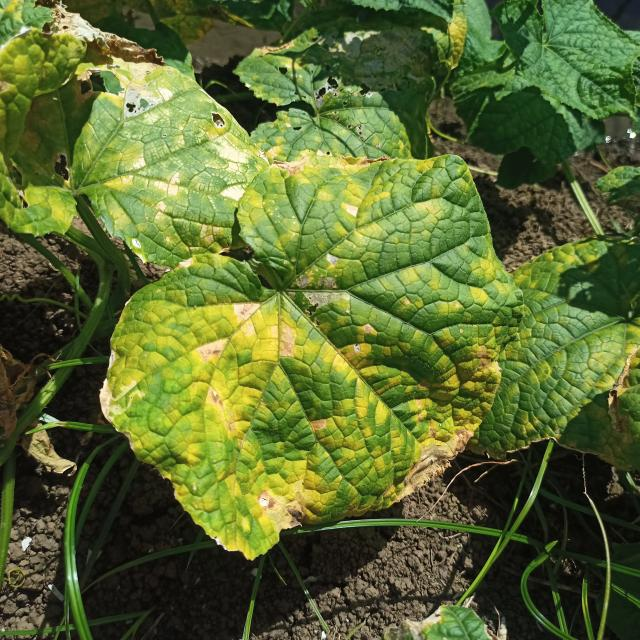disease_cucumber: (104, 149, 508, 556), (77, 73, 297, 262)
